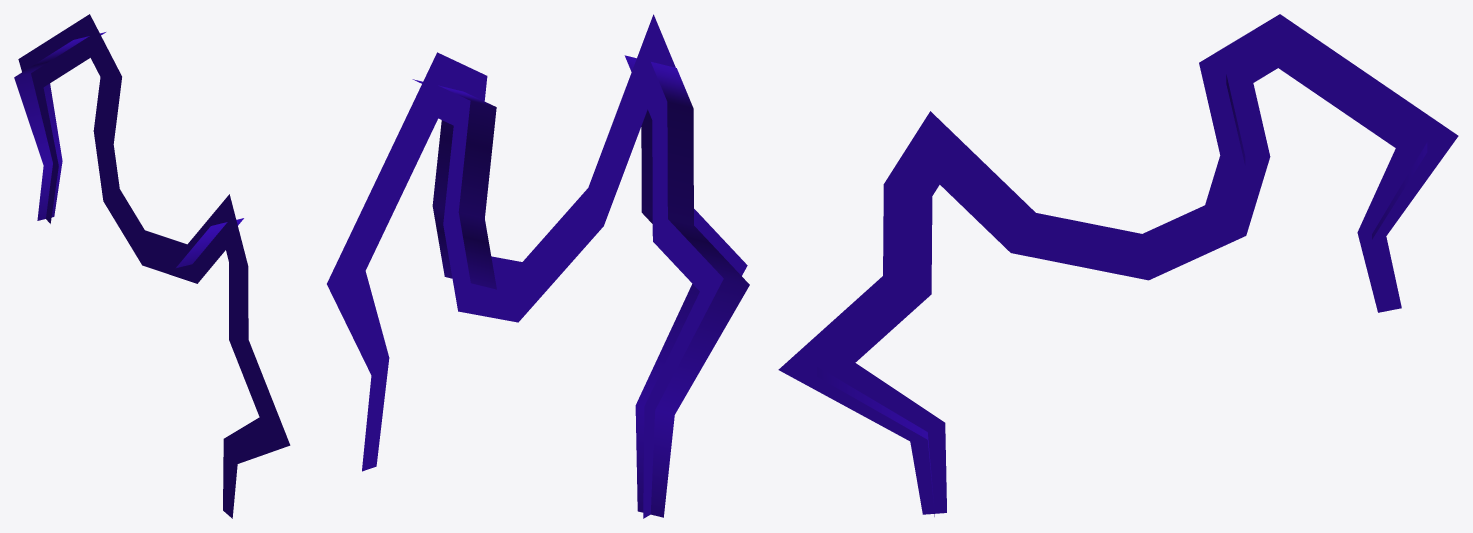
Rendered from SM_EFF_Lightning_B_02.mo.fbx.
The picture shows the model from 3 angles, left to right: view 1: azimuth 30°, elevation 25°; view 2: azimuth 150°, elevation 25°; view 3: azimuth 270°, elevation 25°; orthographic projection. The views are drawn at different scales.
Visible parts, largest first — view 1: SM_EFF_Lightning_B_02.mo; view 2: SM_EFF_Lightning_B_02.mo; view 3: SM_EFF_Lightning_B_02.mo.
Part boxes in pixels (box(x1,y1,x2,y2)): SM_EFF_Lightning_B_02.mo: box(14, 14, 290, 518); SM_EFF_Lightning_B_02.mo: box(327, 14, 749, 518); SM_EFF_Lightning_B_02.mo: box(778, 14, 1458, 516).
Size of the model in its own units: 0.15 by 1.7 by 2.09.
